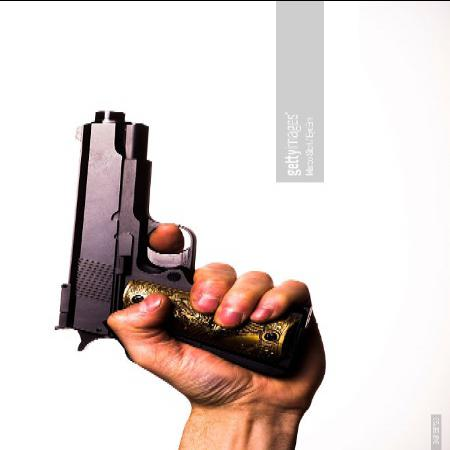Pistol: (47, 106, 304, 374)
